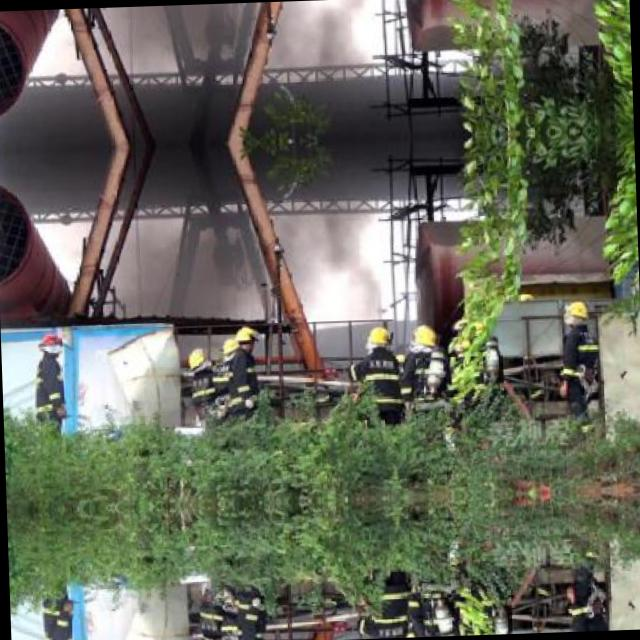helmet: (408, 318, 437, 356), (36, 328, 68, 358), (560, 296, 588, 329), (364, 323, 391, 350), (234, 324, 258, 352), (187, 346, 210, 374), (219, 334, 241, 358), (195, 631, 220, 640)
